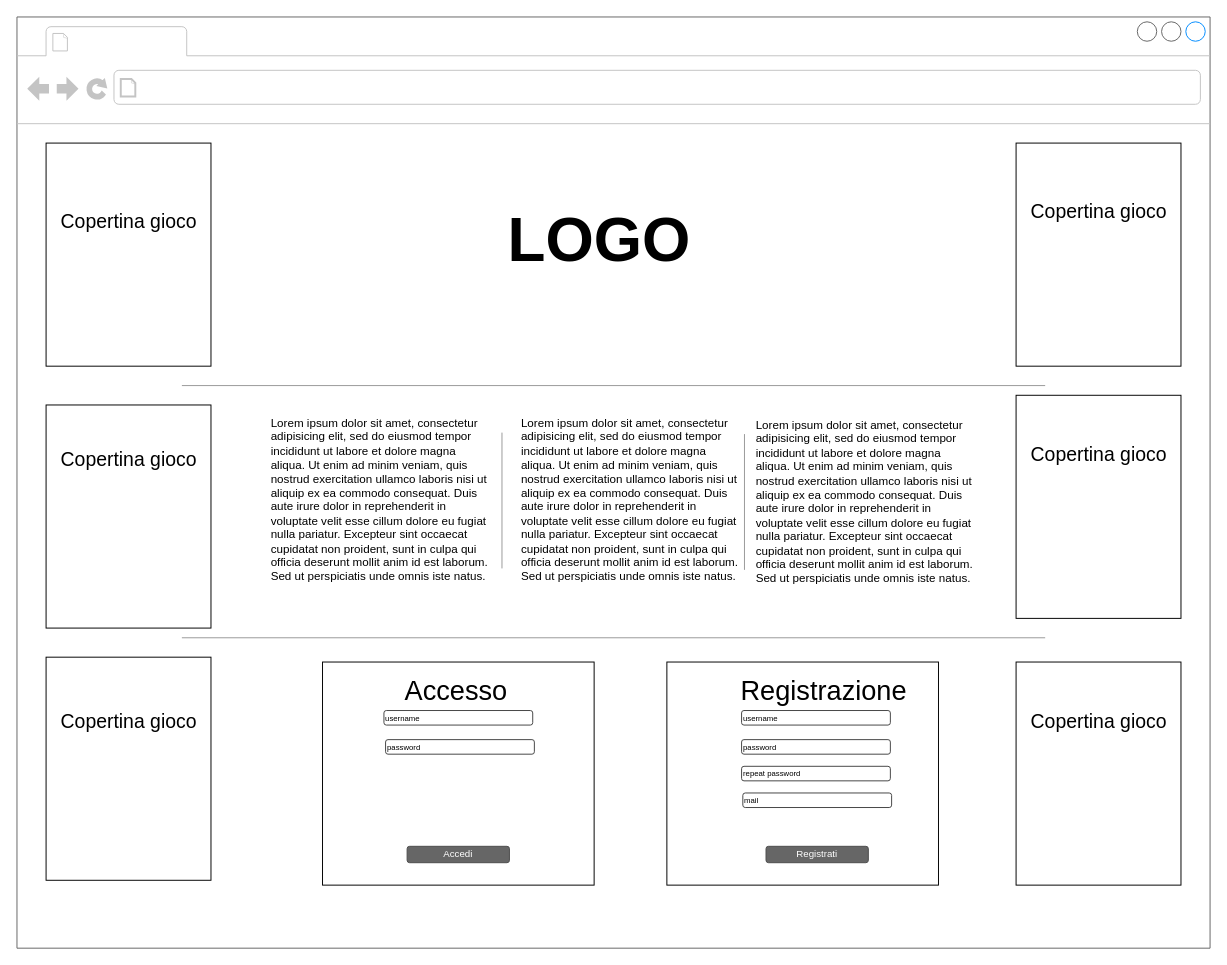
Image size: 1227x965. Some labels were removed from this diagram. Each missing label, with the centre of its shape:
https://www.default.com: pixel 264 87
Page 1: pixel 128 41
